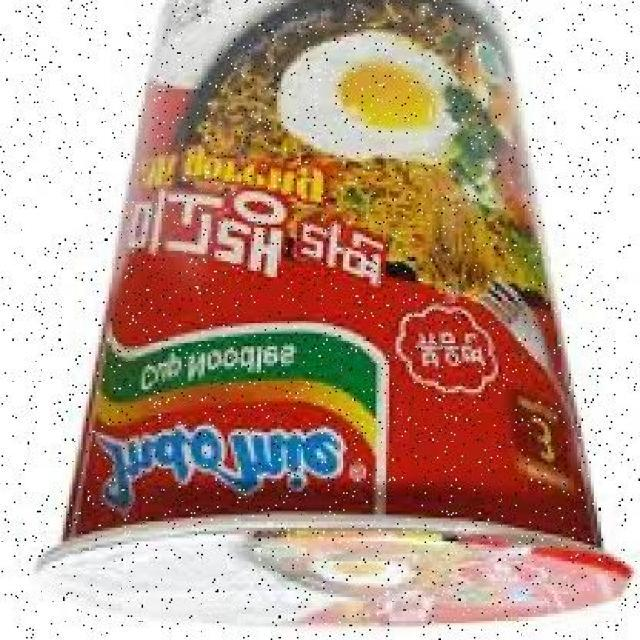Miscellaneous: (39, 0, 607, 631)
